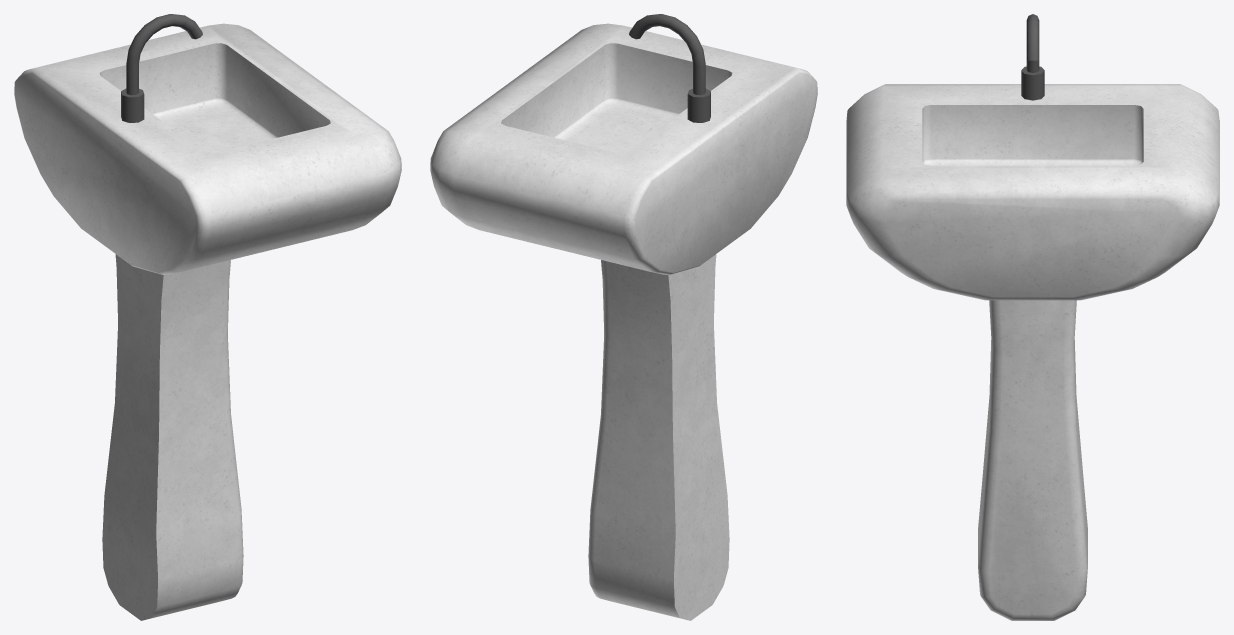
File: sink.fbx
The picture shows the model from 3 angles, left to right: view 1: azimuth 30°, elevation 25°; view 2: azimuth 150°, elevation 25°; view 3: azimuth 270°, elevation 25°; orthographic projection.
Parts seen in each view (by area): view 1: sink; view 2: sink; view 3: sink.
Part boxes in pixels (left/top/right/bottom): sink: left=14, top=14, right=401, bottom=620; sink: left=430, top=14, right=817, bottom=620; sink: left=846, top=14, right=1219, bottom=620.
Bounding box in the file's own units: 46.95 × 122 × 71.19.
1 material, 1 textured.
